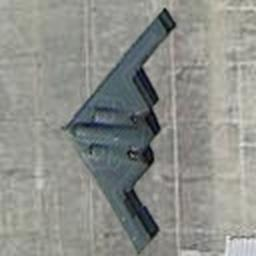Airplane: (60, 6, 177, 254)
